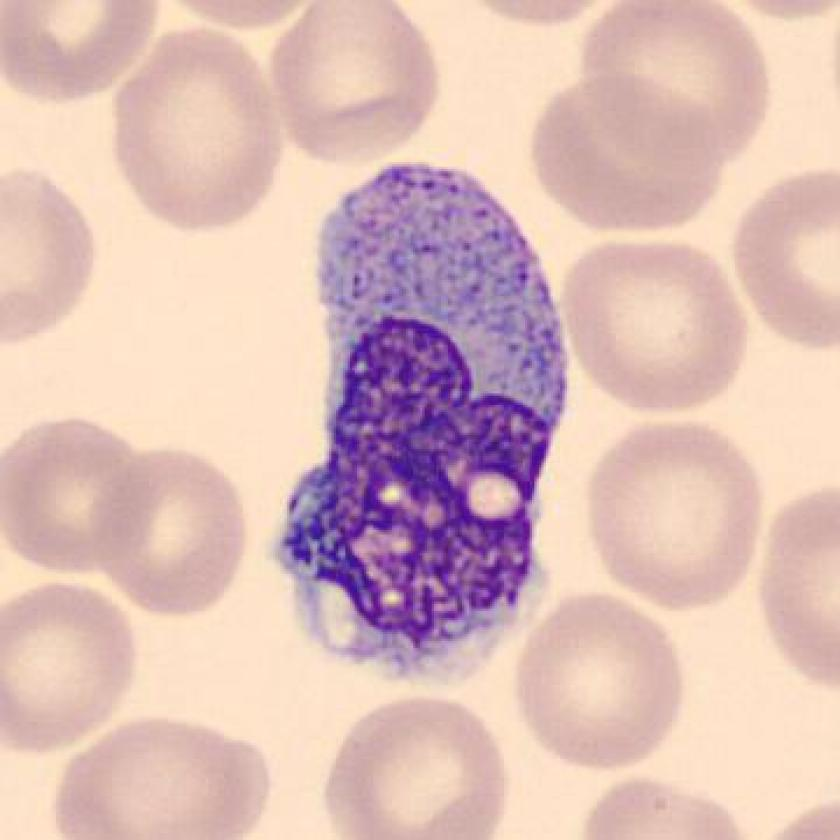monocyte: (244, 142, 596, 705)
